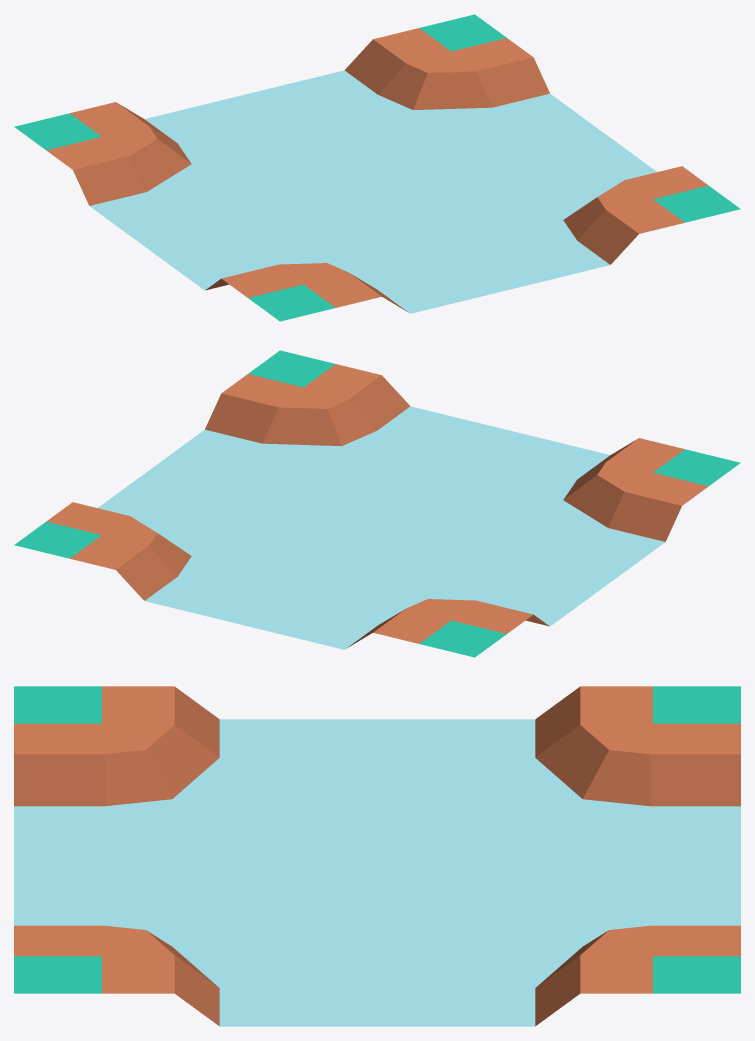
The model's file is ground_riverCross.dae.
3 views of the same model, one above another, from view 1: azimuth 30°, elevation 25°; view 2: azimuth 150°, elevation 25°; view 3: azimuth 270°, elevation 25° (orthographic). The views are drawn at different scales.
Visible parts, largest first — view 1: ground_riverCross; view 2: ground_riverCross; view 3: ground_riverCross.
Boxes of the visible parts, left/top/right/bottom form: ground_riverCross: left=14, top=14, right=740, bottom=321; ground_riverCross: left=14, top=350, right=740, bottom=657; ground_riverCross: left=14, top=686, right=740, bottom=1026.
Bounding box in the file's own units: 1 × 0.05 × 1.
